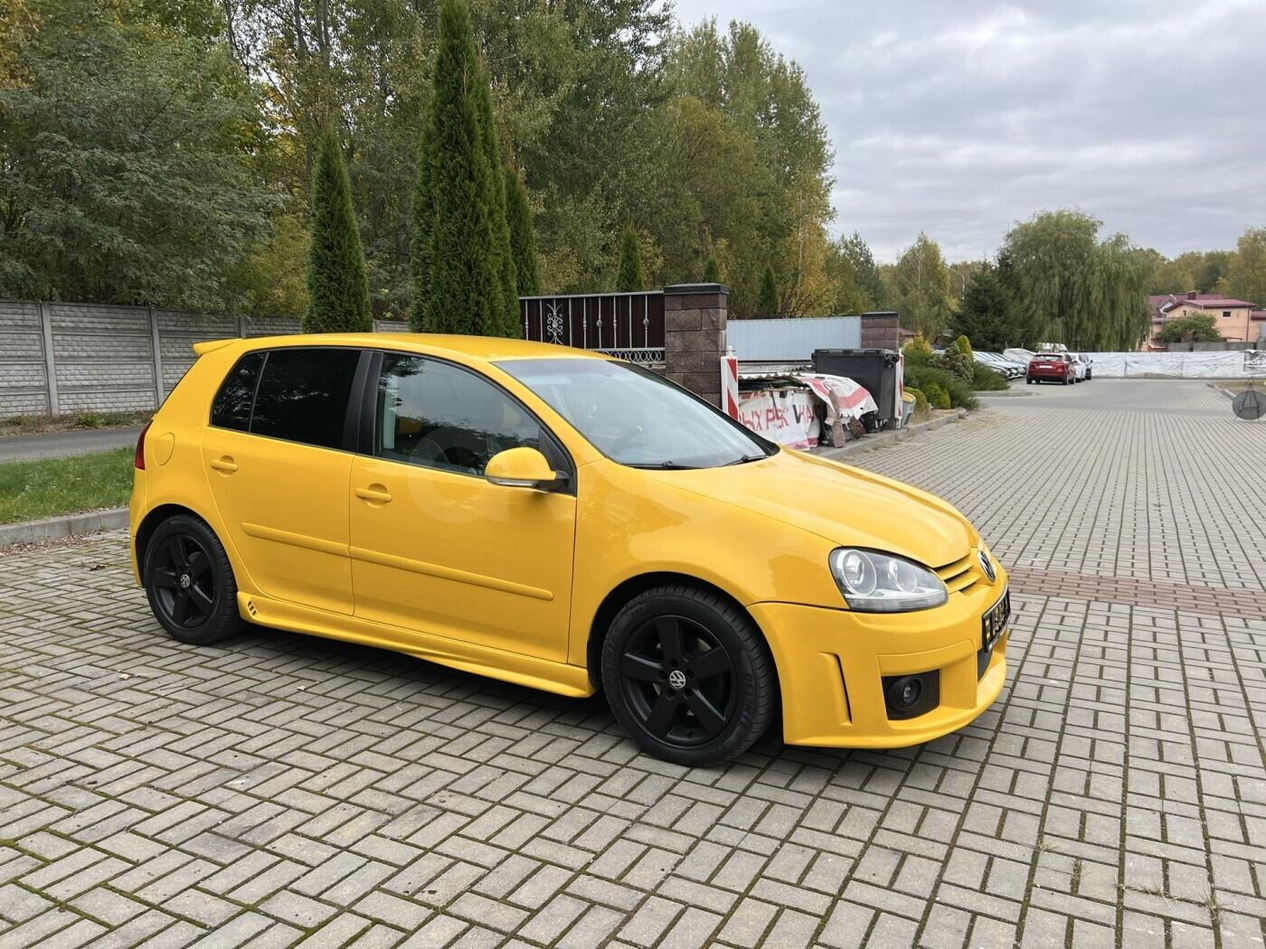Golf_2003-2009: (119, 326, 1027, 769)
